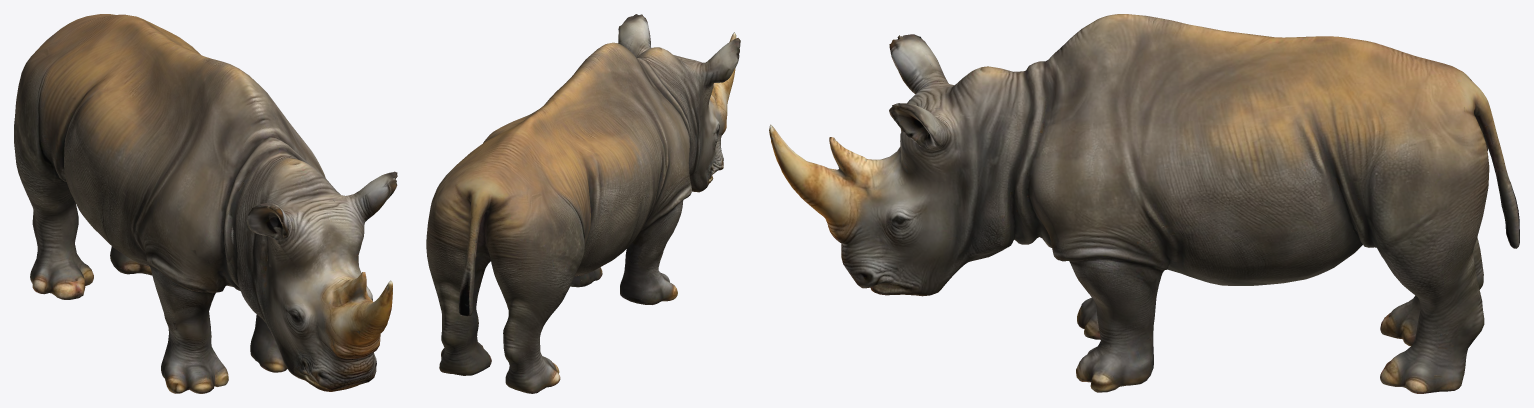
Rendered from rhinoceros.glb.
The picture shows the model from 3 angles, left to right: view 1: azimuth 30°, elevation 25°; view 2: azimuth 150°, elevation 25°; view 3: azimuth 270°, elevation 25°; orthographic projection. The views are drawn at different scales.
Bounding box in the file's own units: 0.6085 × 1.02 × 2.
Materials: 1 (1 with a texture image).
